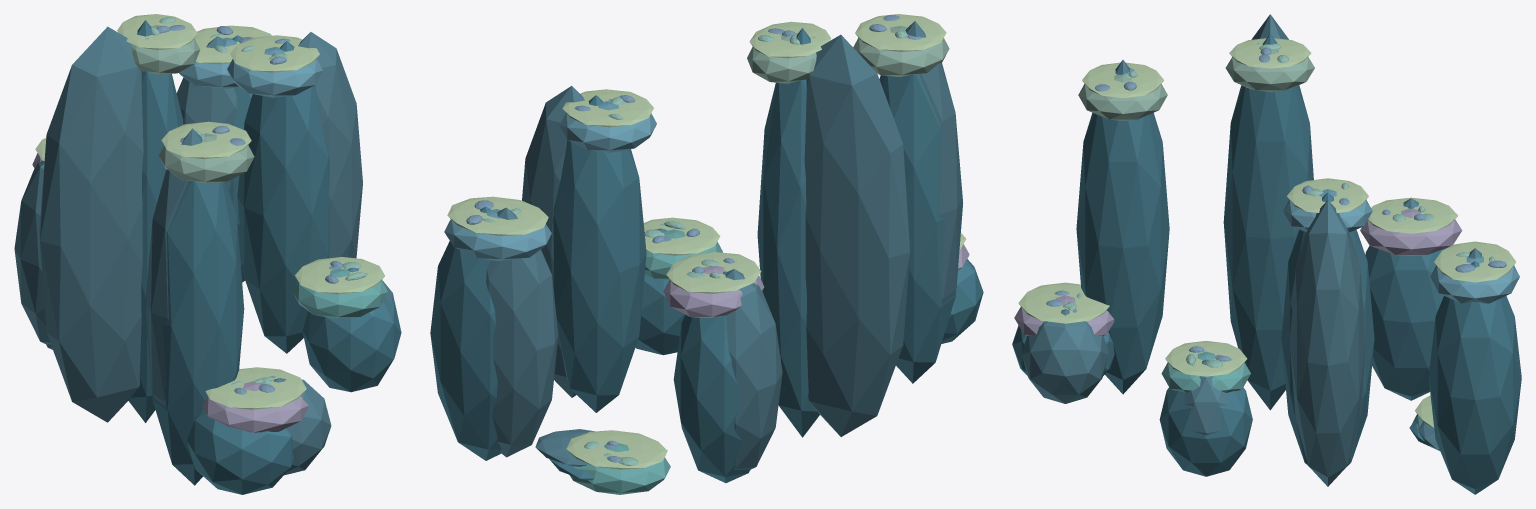
Rendered from terraces.glb.
3 views of the same model, side by side, from view 1: azimuth 30°, elevation 25°; view 2: azimuth 150°, elevation 25°; view 3: azimuth 270°, elevation 25° (orthographic). The views are drawn at different scales.
Visible parts, largest first — view 1: terraces; view 2: terraces; view 3: terraces.
Boxes of the visible parts, left/top/right/bottom form: terraces: left=14, top=14, right=401, bottom=494; terraces: left=430, top=14, right=983, bottom=494; terraces: left=1012, top=14, right=1521, bottom=494.
Bounding box in the file's own units: 60.04 × 65.38 × 79.6.
